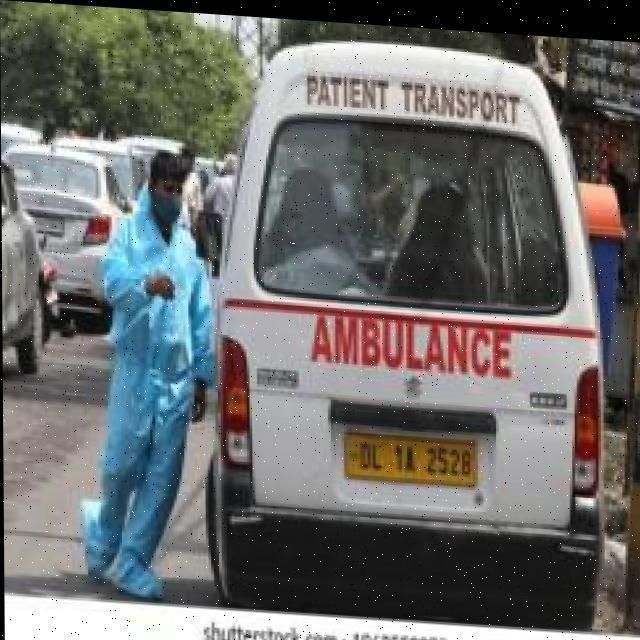Ambulance: (0, 2, 640, 625), (76, 138, 218, 602), (1, 140, 133, 338), (1, 136, 52, 394)
